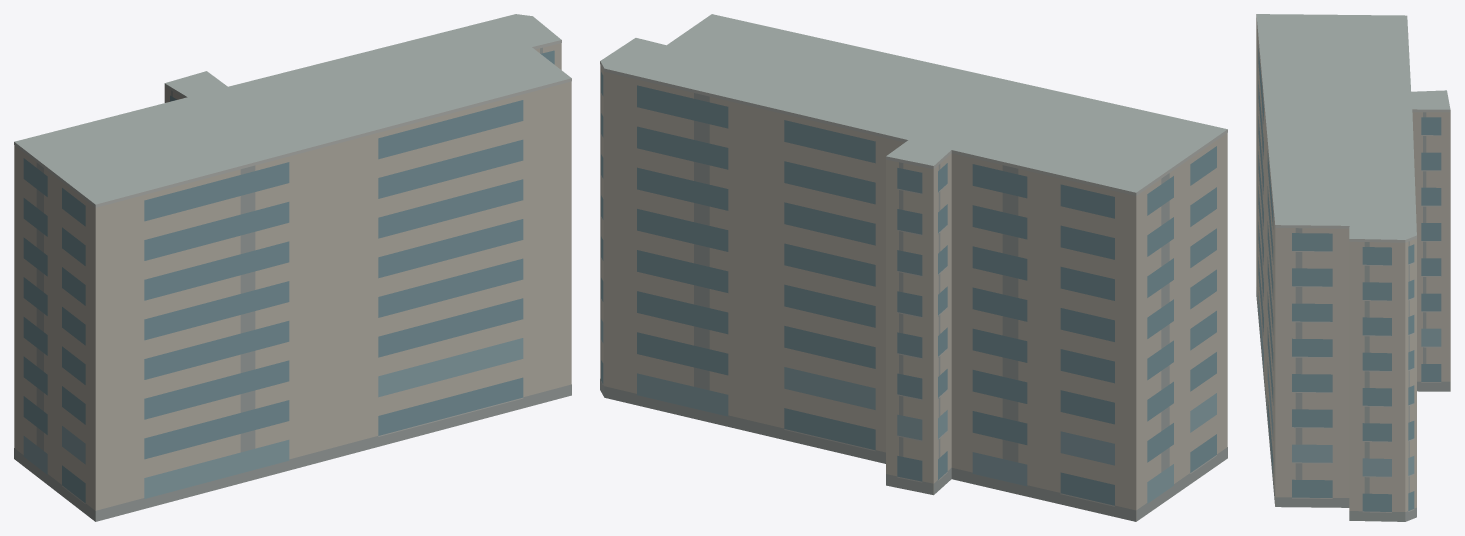
The model's file is survey-upis-32760729.glb.
The picture shows the model from 3 angles, left to right: view 1: azimuth 30°, elevation 25°; view 2: azimuth 150°, elevation 25°; view 3: azimuth 270°, elevation 25°; orthographic projection. The views are drawn at different scales.
Visible parts, largest first — view 1: survey-upis-32760729.tmp; view 2: survey-upis-32760729.tmp; view 3: survey-upis-32760729.tmp.
Part boxes in pixels (left/top/right/bottom): survey-upis-32760729.tmp: left=14, top=14, right=571, bottom=521; survey-upis-32760729.tmp: left=600, top=14, right=1227, bottom=521; survey-upis-32760729.tmp: left=1256, top=14, right=1450, bottom=521.
Size of the model in its own units: 41.95 by 24.4 by 15.23.
